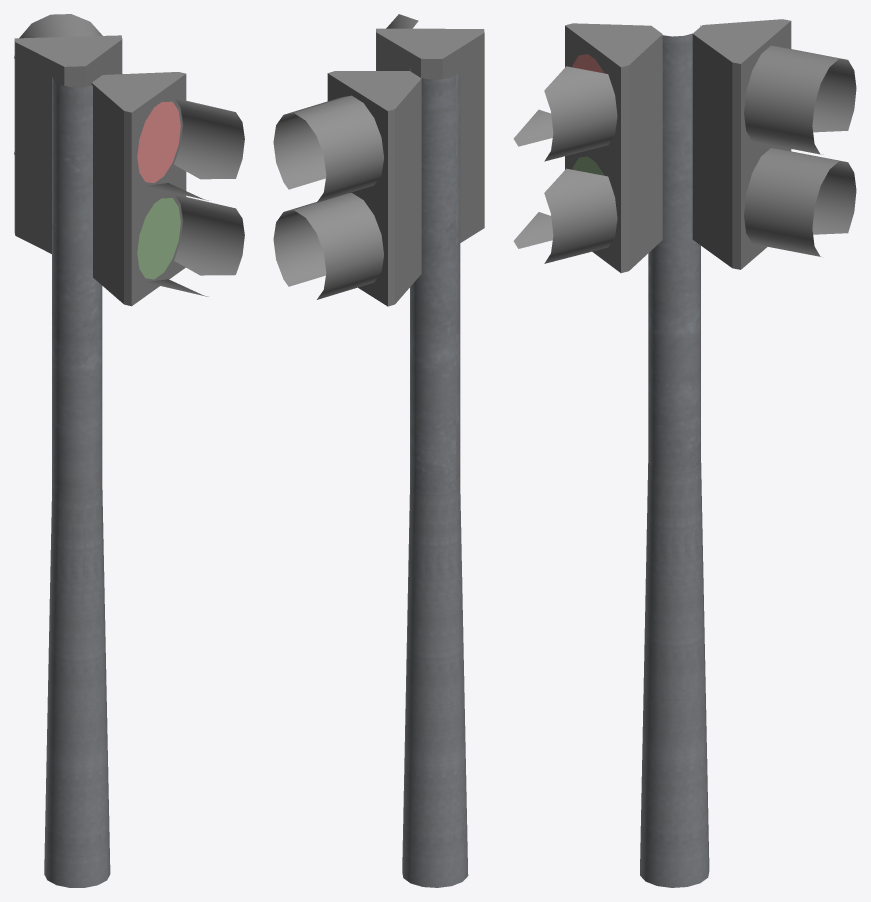
Rendered from TrafficLight_LOD1.gltf.
3 renders of one model, left to right at view 1: azimuth 30°, elevation 25°; view 2: azimuth 150°, elevation 25°; view 3: azimuth 270°, elevation 25°, orthographic. The views are drawn at different scales.
Parts seen in each view (by area): view 1: node5, node8, node7, node6; view 2: node5, node8; view 3: node8, node5.
Part boxes in pixels (x1,y1,x2,y2): node5: [44, 77, 110, 887]; node8: [14, 14, 244, 306]; node7: [137, 198, 180, 279]; node6: [137, 101, 180, 183]; node5: [402, 68, 468, 887]; node8: [273, 14, 484, 306]; node8: [513, 19, 856, 273]; node5: [640, 25, 709, 887].
Size of the model in its own units: 0.2349 by 1.29 by 0.4714.
